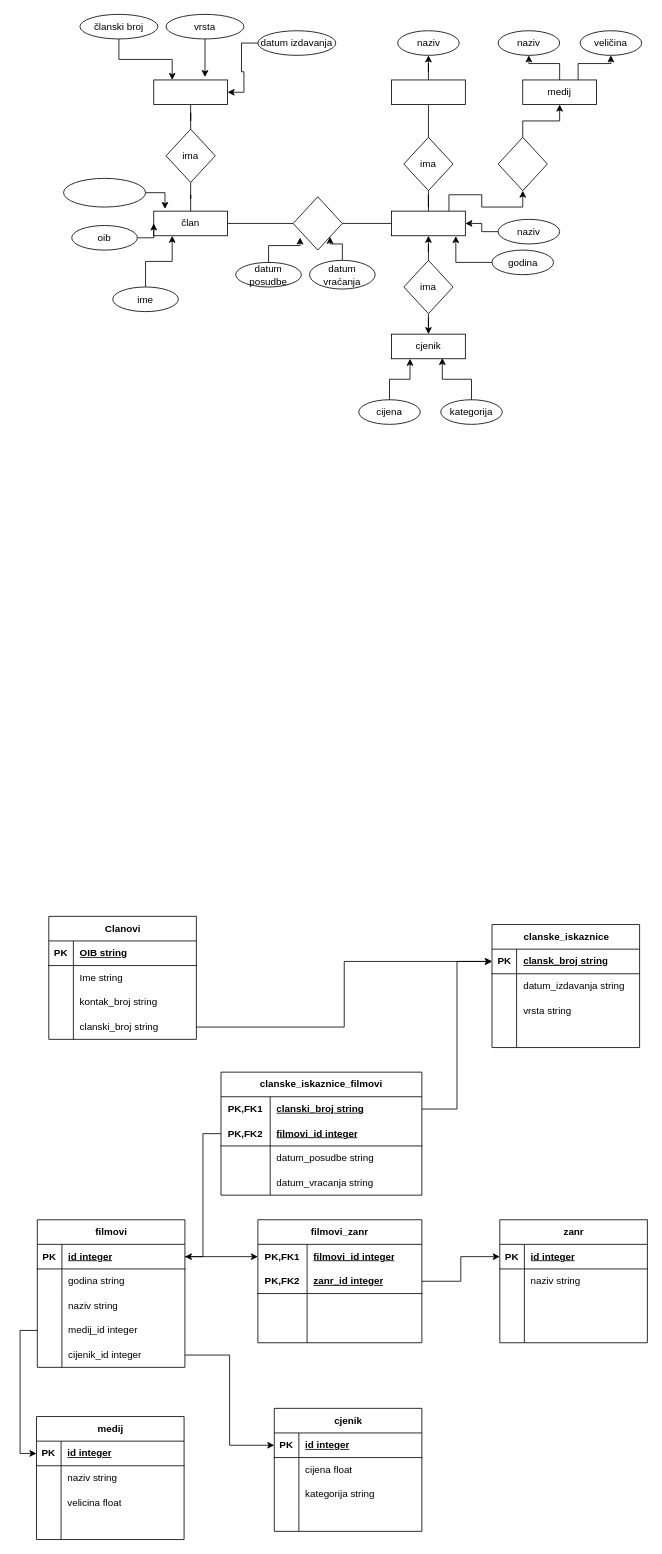
Some shapes in this 662 by 1554 pixel diagram are drawn without their labels. The centre of each missing label's shape, as x and y in pixels:
film: (x=428, y=223)
kontakt broj: (x=104, y=192)
nalazi se: (x=522, y=164)
posuđuje: (x=317, y=223)
članska iskaznica: (x=190, y=92)
žanr: (x=428, y=92)
